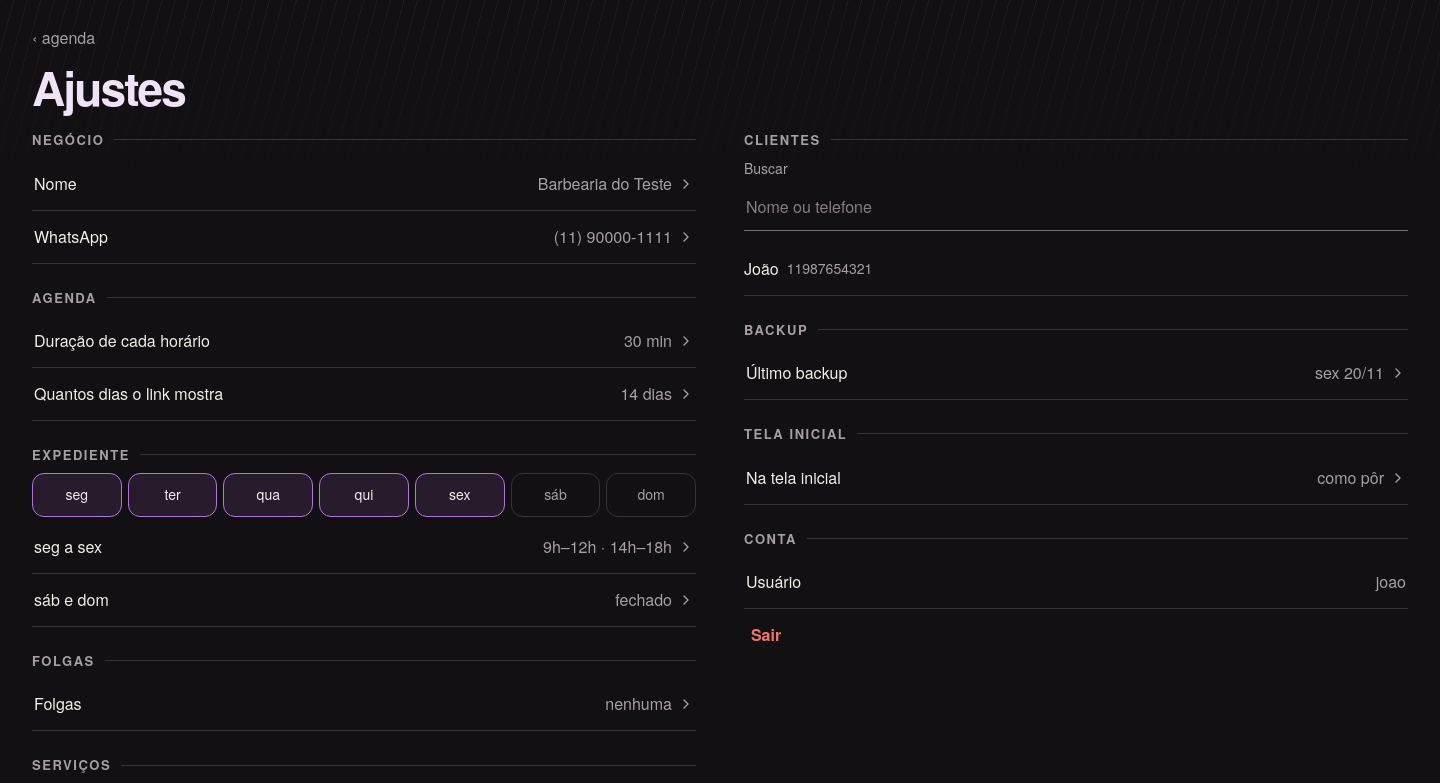
Test: Ajustes: cada painel salva só o que mostra › nome: grava exatamente esse campo, recarrega e fecha
Step 1. Click the button with aria-label "Nome," → click(55, 183), box 32,158 -> 696,210
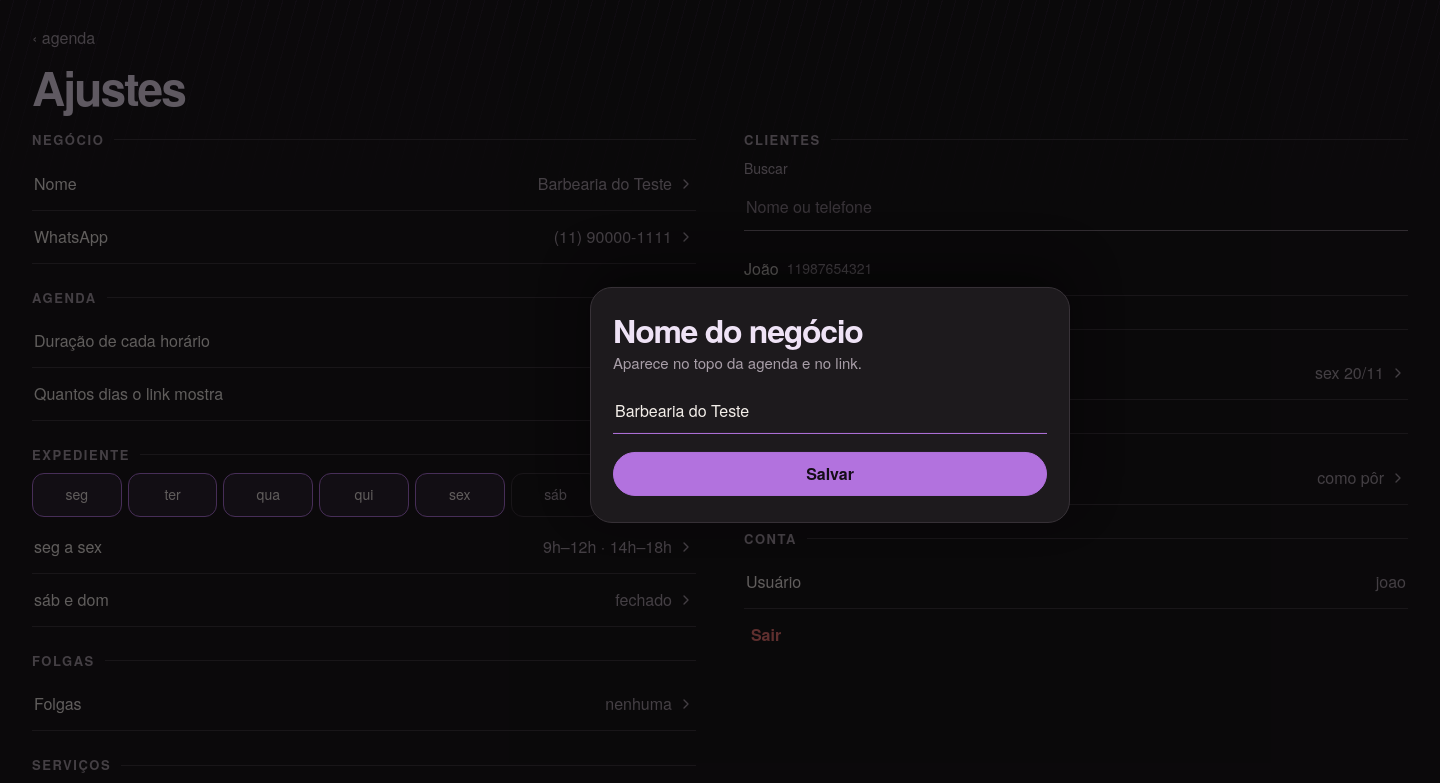
Step 2. Replace the text in the field named "Nome do negócio" with "Barbearia Nova" → (830, 411), box 613,388 -> 1047,434
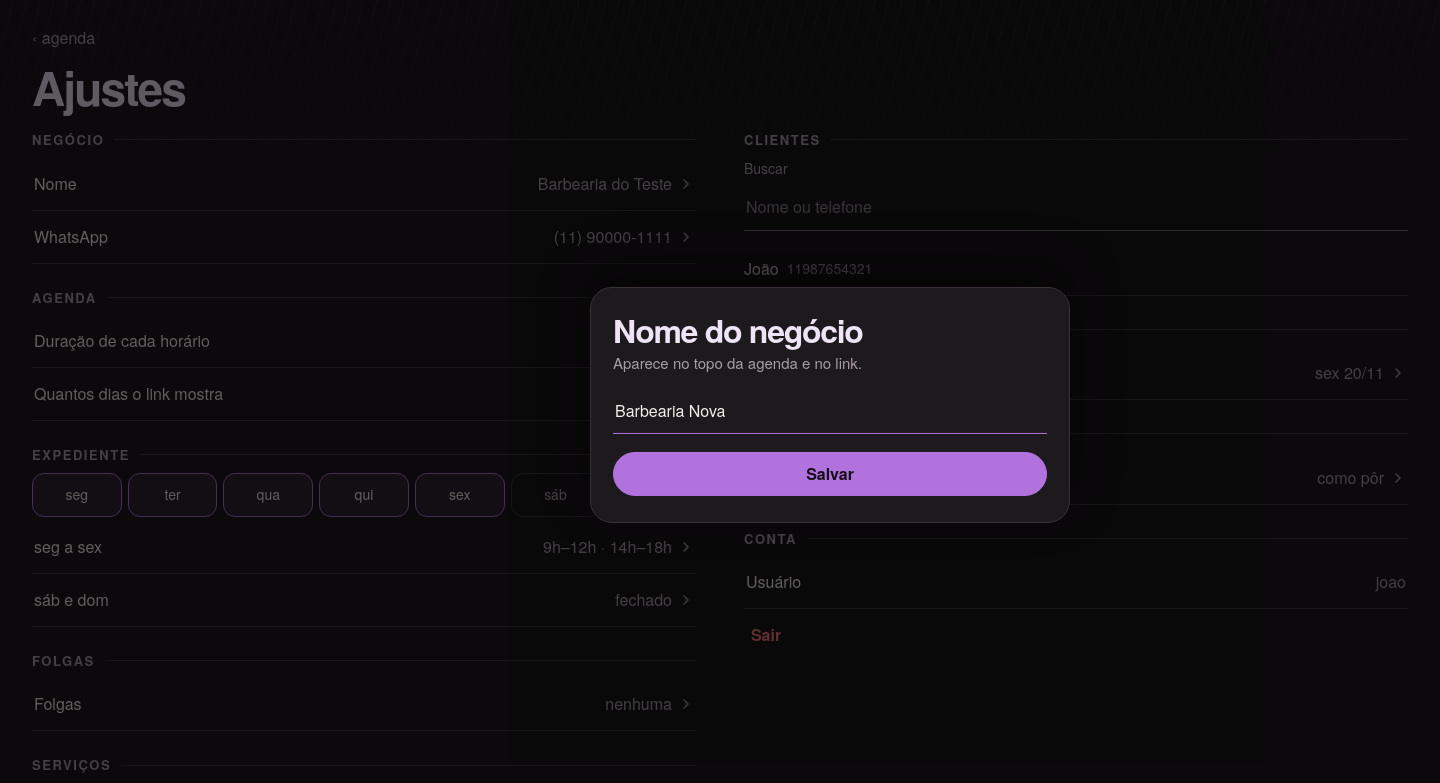
Step 3. Click the button "Salvar" → click(830, 474), box 613,452 -> 1047,496
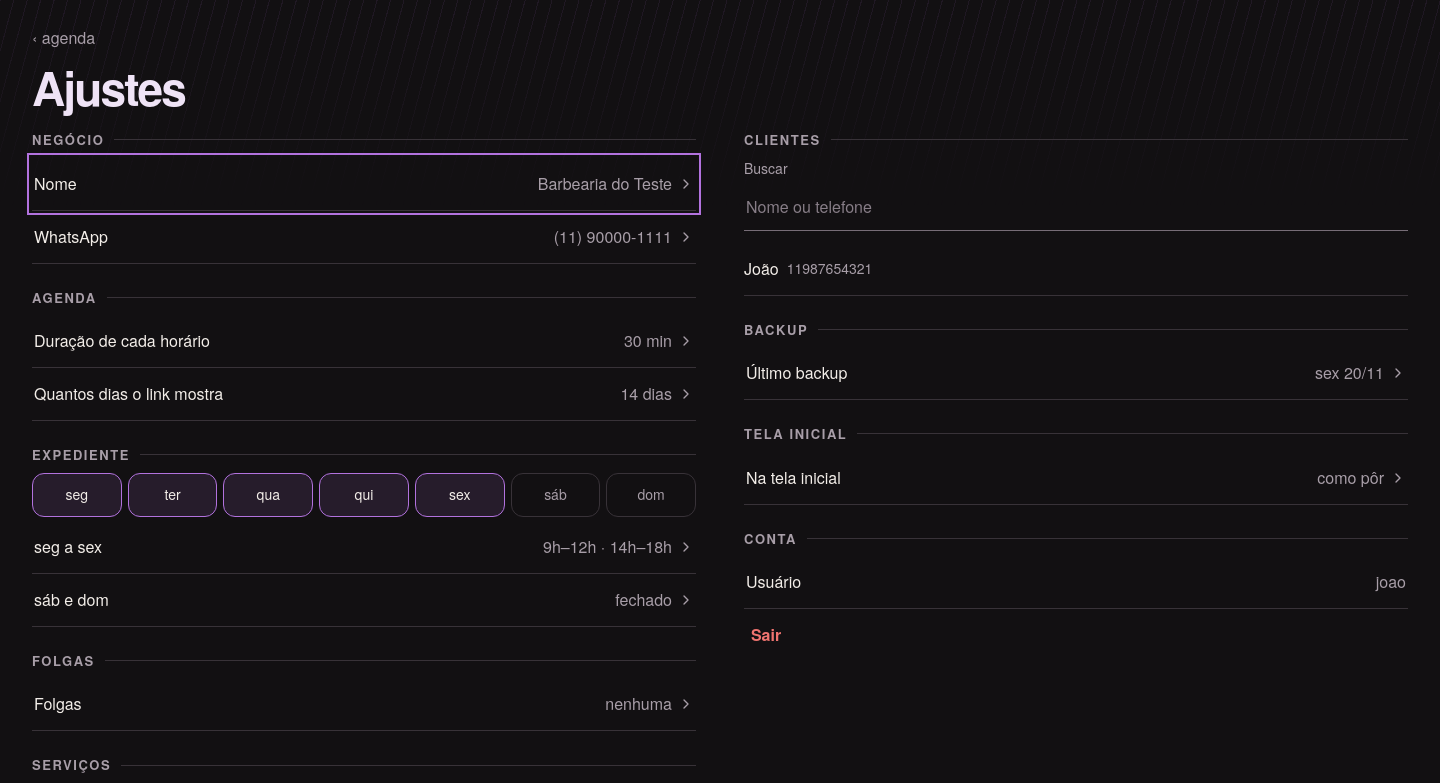
Check: the dialog is gone
